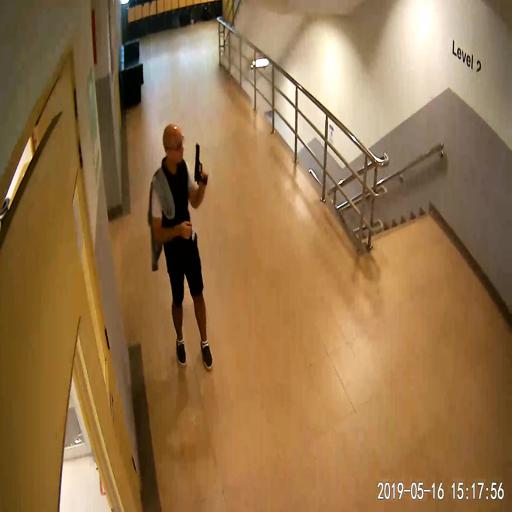pistol: (194, 142, 207, 185)
